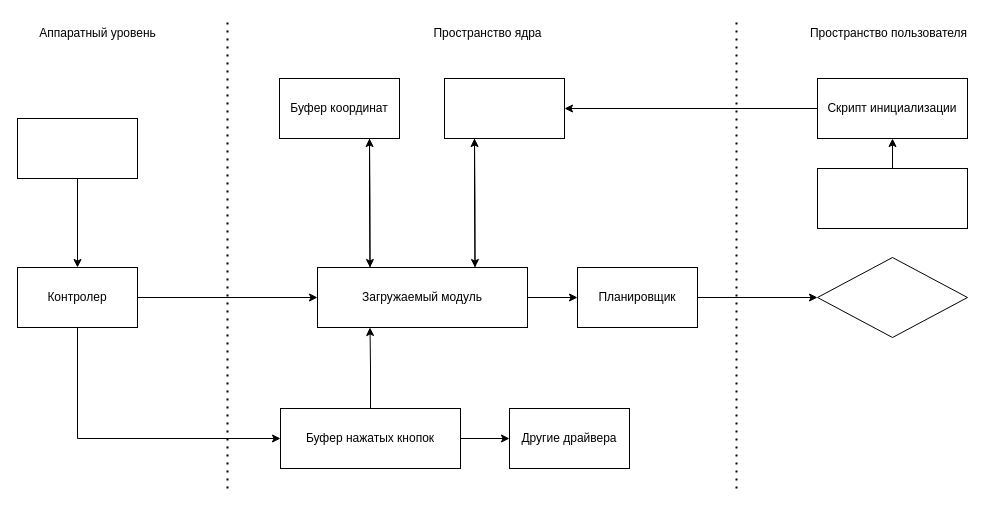
The diagram is 996 pixels wide and 507 high, and some of its shapes have lost their labels. Each missing label, with the centre of its shape:
/proc/ файл: (504,108)
Исполнение команды: (892,297)
Тачпад: (77,148)
Файл конфигурации: (892,198)
